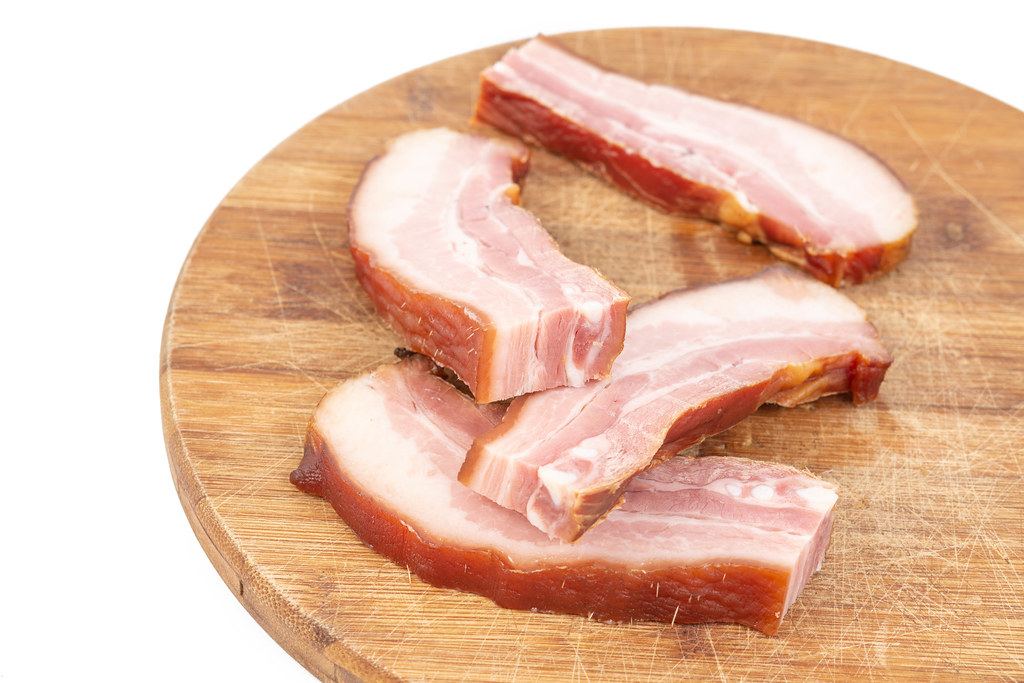bacon: (302, 35, 895, 629)
